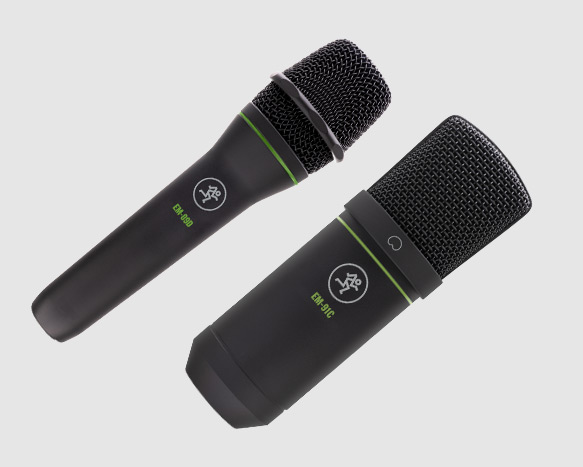microphone: (182, 111, 537, 434), (28, 37, 397, 346)
